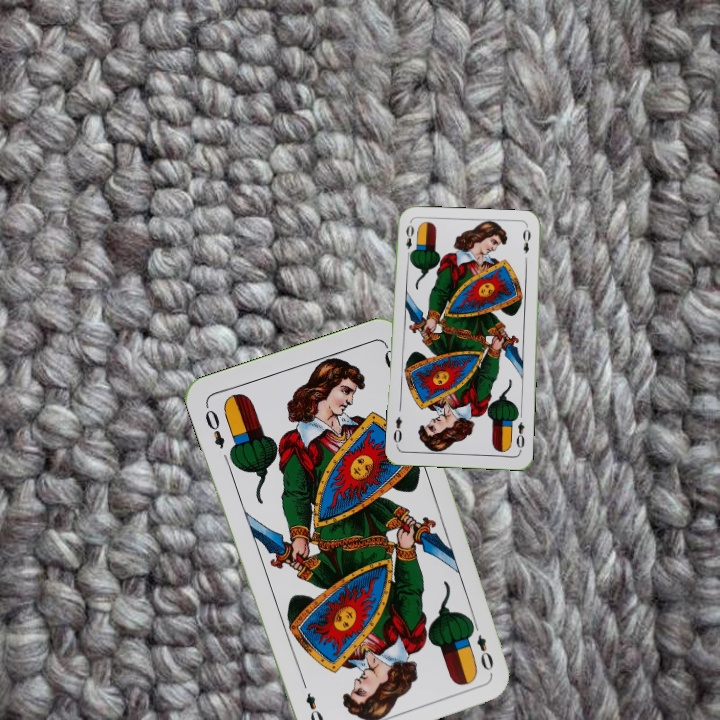EO: (466, 617, 496, 673), (201, 405, 228, 451), (402, 221, 416, 261), (512, 418, 527, 454)
